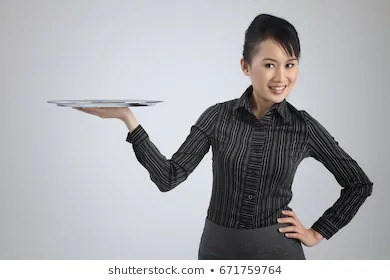C_blouse: (107, 82, 371, 239)
